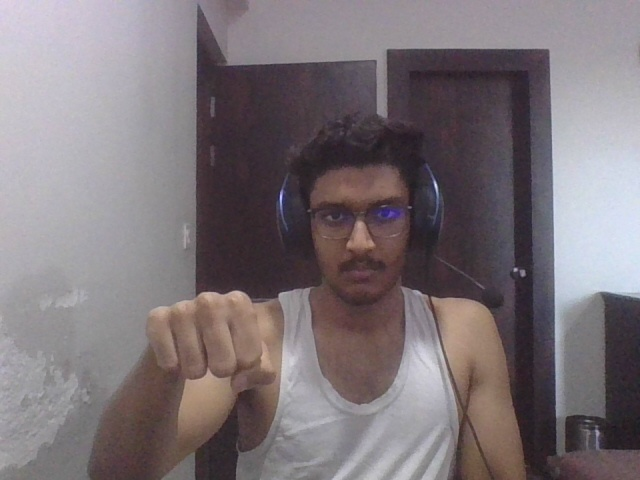Yes: (135, 284, 284, 394)
